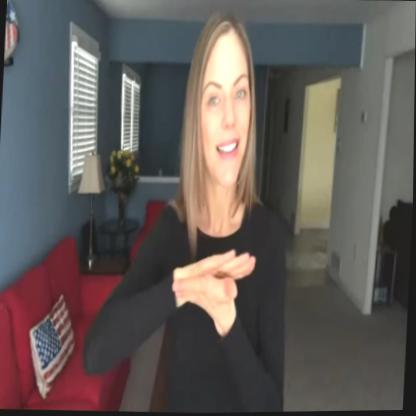NiceToMeetYou: (82, 9, 304, 415)
